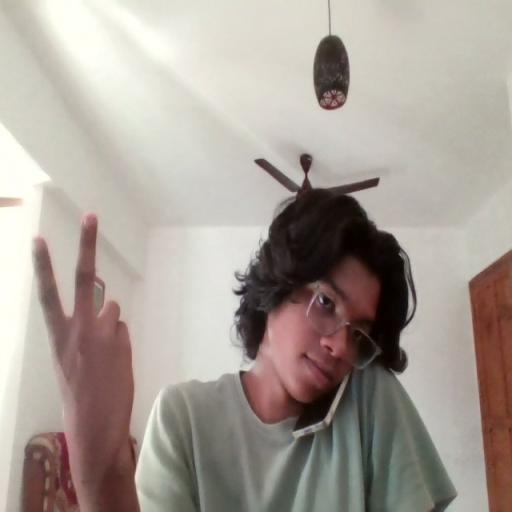scissor: (30, 210, 137, 442)
